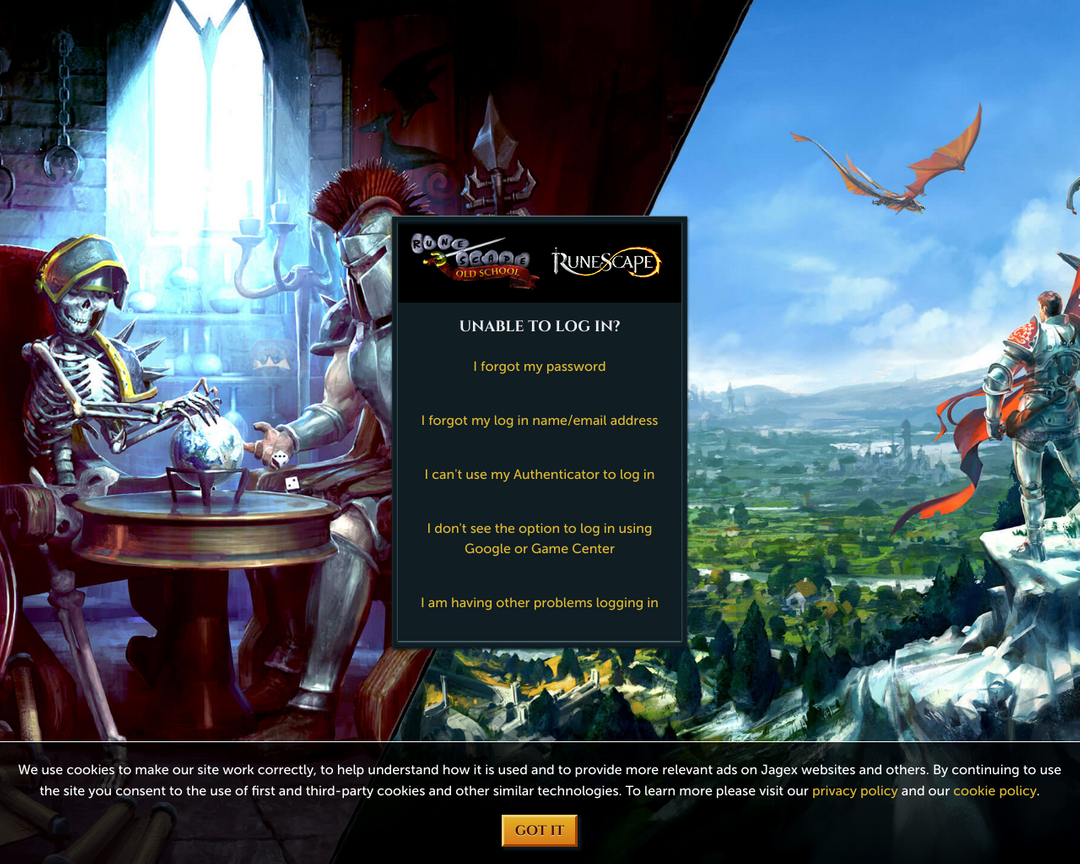Runescape: (404, 229, 542, 291), (546, 240, 670, 287)
